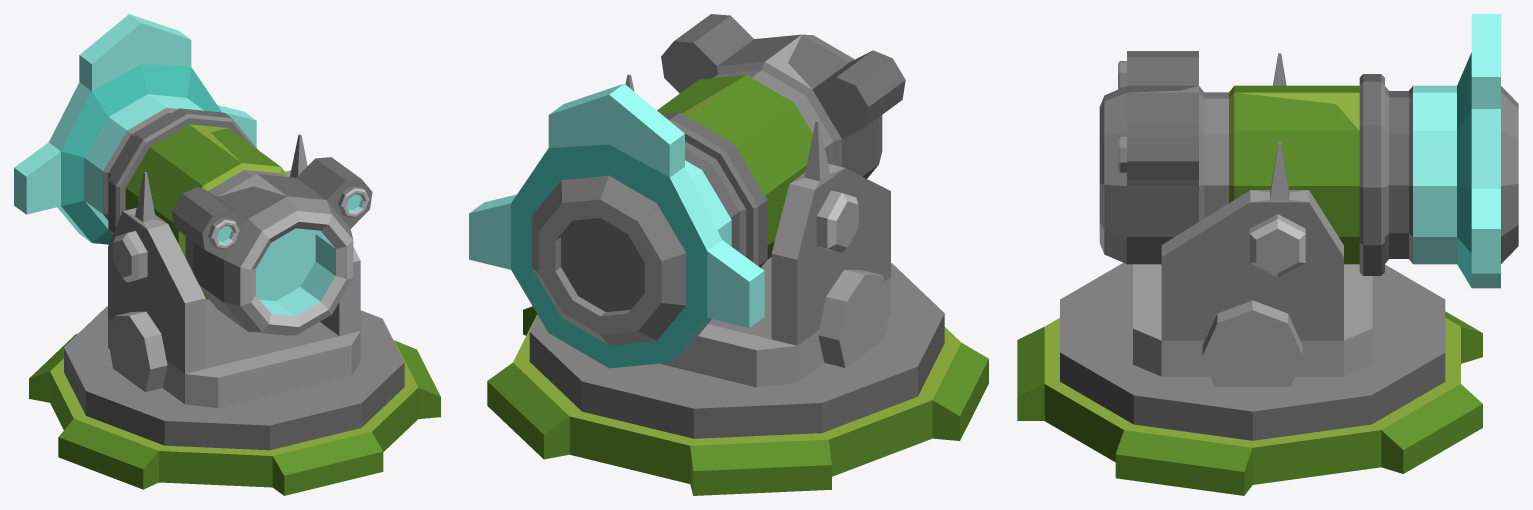
File: tower_plasma_green_3.fbx
3 renders of one model, left to right at view 1: azimuth 30°, elevation 25°; view 2: azimuth 150°, elevation 25°; view 3: azimuth 270°, elevation 25°, orthographic. The views are drawn at different scales.
Parts seen in each view (by area): view 1: top_plasma_green_3, tower_plasma_green_3; view 2: top_plasma_green_3, tower_plasma_green_3; view 3: top_plasma_green_3, tower_plasma_green_3.
Part boxes in pixels (box(x1,y1,x2,y2)): top_plasma_green_3: box(14, 14, 372, 407); tower_plasma_green_3: box(29, 306, 440, 495); top_plasma_green_3: box(469, 14, 905, 387); tower_plasma_green_3: box(487, 263, 988, 495); top_plasma_green_3: box(1099, 14, 1518, 386); tower_plasma_green_3: box(1017, 263, 1482, 495).
Size of the model in its own units: 159 by 135 by 162.
